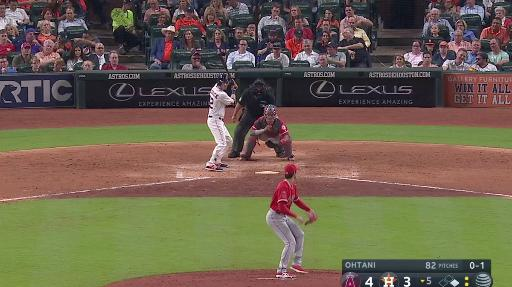pitcher: (264, 163, 321, 279)
